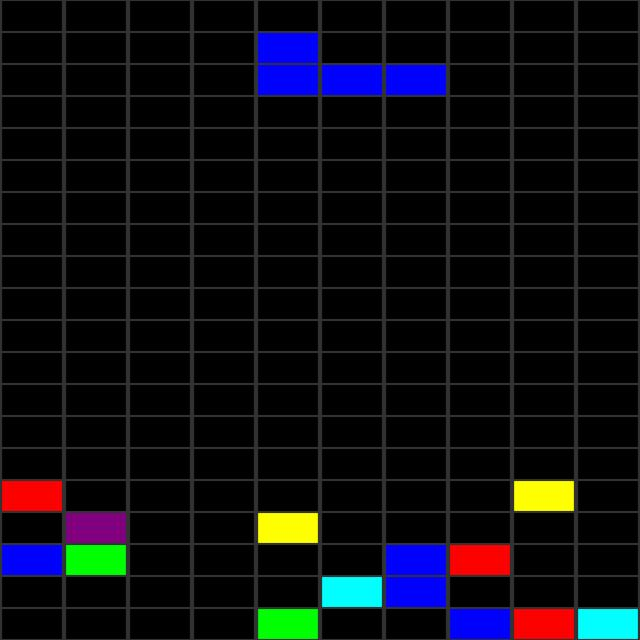Tetrimino_S: (258, 32, 446, 96)
